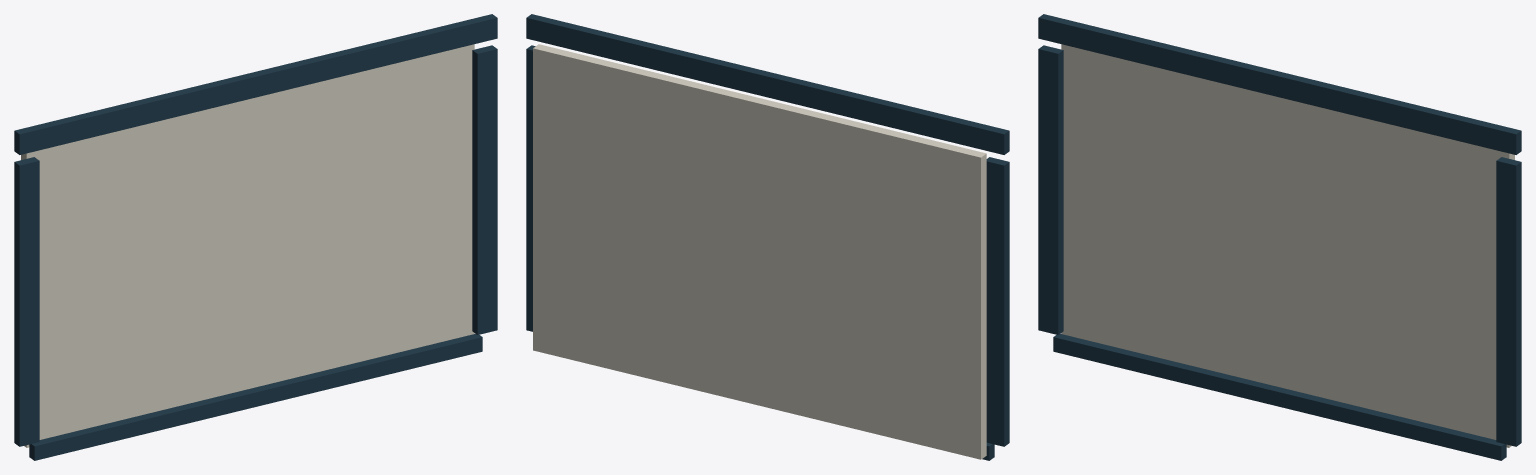
Rendered from boards--live--v1--model.glb.
3 views of the same model, side by side, from view 1: azimuth 30°, elevation 25°; view 2: azimuth 150°, elevation 25°; view 3: azimuth 330°, elevation 25° (orthographic).
Parts seen in each view (by area): view 1: information-back, live-top-visor, live-bottom-strip, live-left-rail, live-right-rail; view 2: information-back, live-top-visor, live-left-rail, live-right-rail; view 3: information-back, live-top-visor, live-bottom-strip, live-left-rail, live-right-rail.
Part boxes in pixels (x1=…): information-back: x1=21, y1=44, x2=474, y2=447; live-top-visor: x1=14, y1=14, x2=497, y2=154; live-bottom-strip: x1=29, y1=334, x2=482, y2=460; live-left-rail: x1=14, y1=157, x2=39, y2=446; live-right-rail: x1=472, y1=45, x2=497, y2=334; information-back: x1=533, y1=44, x2=986, y2=459; live-top-visor: x1=526, y1=14, x2=1009, y2=154; live-left-rail: x1=986, y1=157, x2=1009, y2=446; live-right-rail: x1=526, y1=45, x2=535, y2=331; information-back: x1=1061, y1=44, x2=1514, y2=447; live-top-visor: x1=1038, y1=14, x2=1521, y2=154; live-bottom-strip: x1=1053, y1=334, x2=1506, y2=460; live-left-rail: x1=1038, y1=45, x2=1063, y2=334; live-right-rail: x1=1496, y1=157, x2=1521, y2=446.
Bounding box in the file's own units: 0.96 × 0.634 × 0.047.
